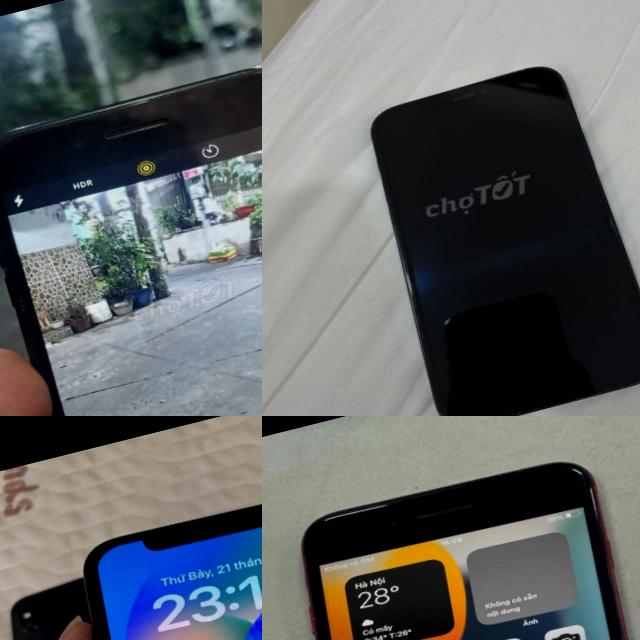scratch: (0, 58, 262, 142), (11, 292, 28, 316)
